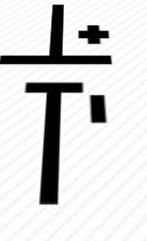Battery: (5, 13, 118, 147)
